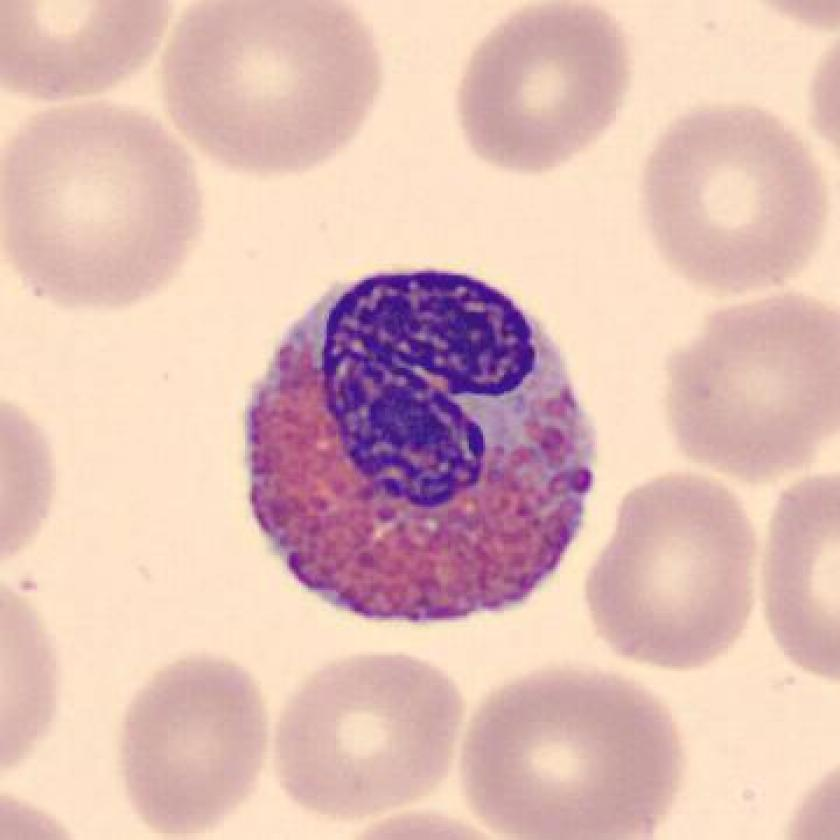eosinophil: (220, 258, 608, 644)
